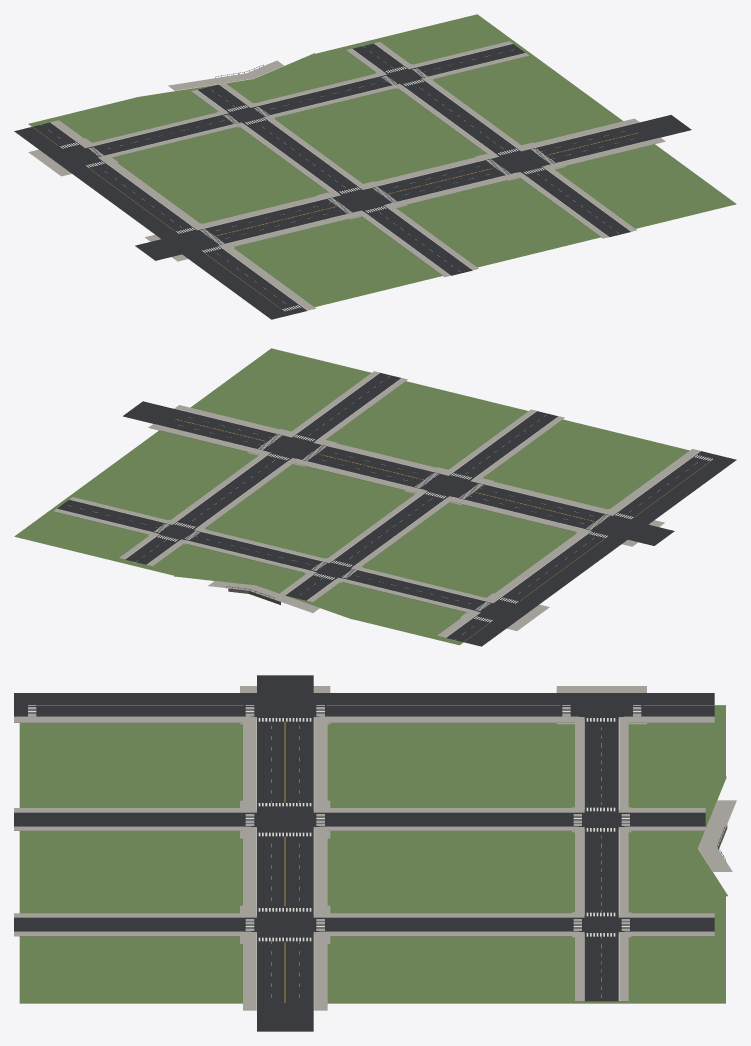
The model's file is Ground_4_1.fbx.
3 renders of one model, top to bottom at view 1: azimuth 30°, elevation 25°; view 2: azimuth 150°, elevation 25°; view 3: azimuth 270°, elevation 25°, orthographic. The views are drawn at different scales.
Parts seen in each view (by area): view 1: Ground_4_1; view 2: Ground_4_1; view 3: Ground_4_1.
Part boxes in pixels (box(x1,y1,x2,y2)): Ground_4_1: box(14, 14, 736, 319); Ground_4_1: box(14, 348, 736, 646); Ground_4_1: box(14, 675, 736, 1031).
Bounding box in the file's own units: 298 × 2.65 × 256.
